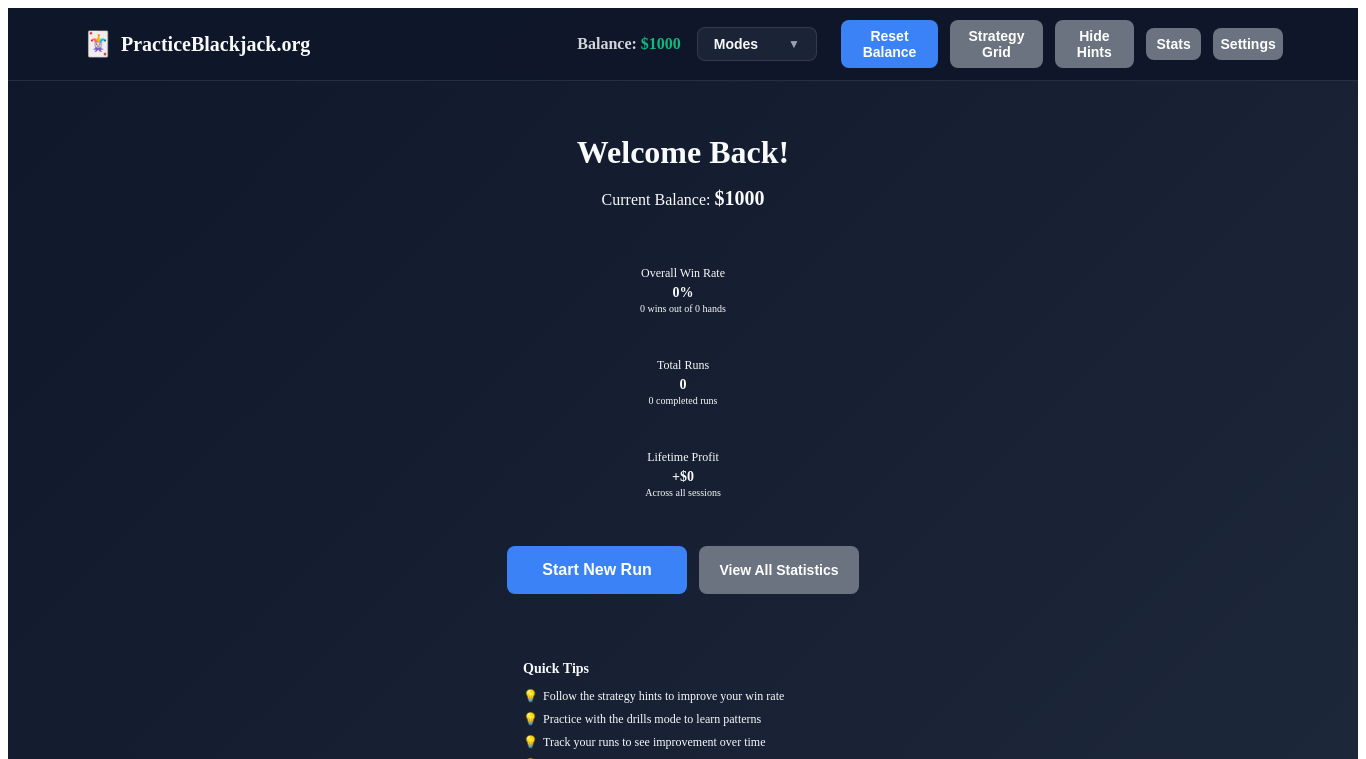
Scenario: Game Flow Integration Tests › Modal Functionality › should open and close statistics modal
// Click stats button
Click the button "Stats": {"x": 1174, "y": 44} [1146, 28, 1201, 60]
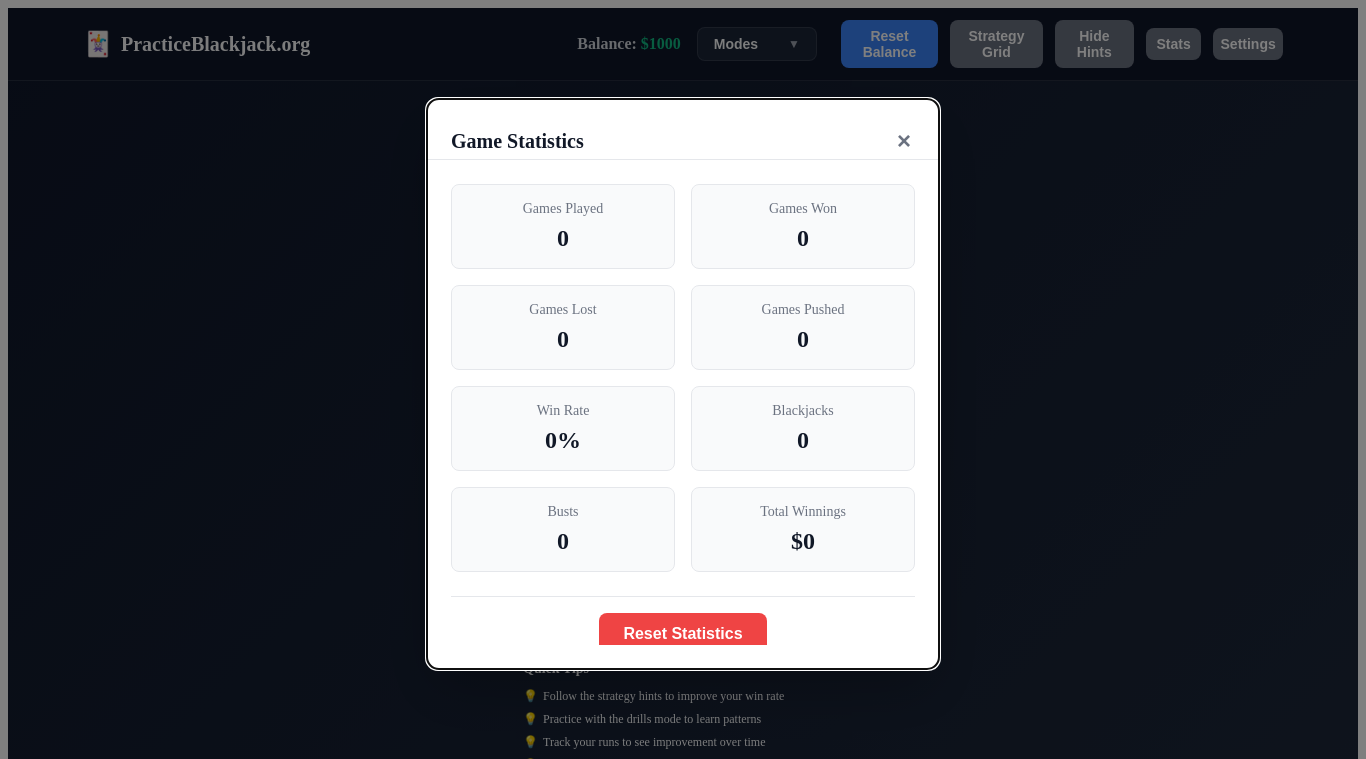
Result: the heading "Game Statistics" is shown at [451, 130, 584, 153]
Result: the text "Games Played" is shown at [523, 201, 603, 216]
// Close modal
Click the button "×": {"x": 904, "y": 141} [893, 123, 915, 159]
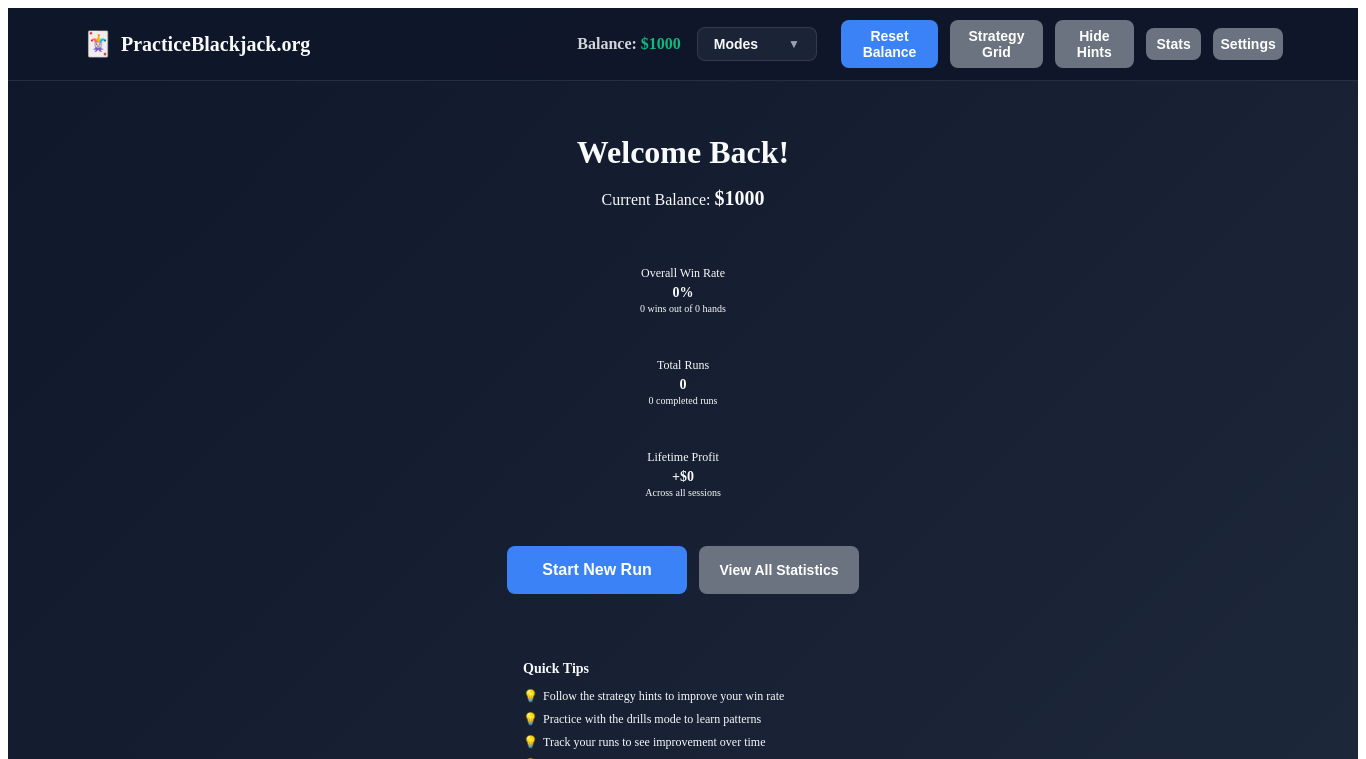
Result: the heading "Game Statistics" is gone
